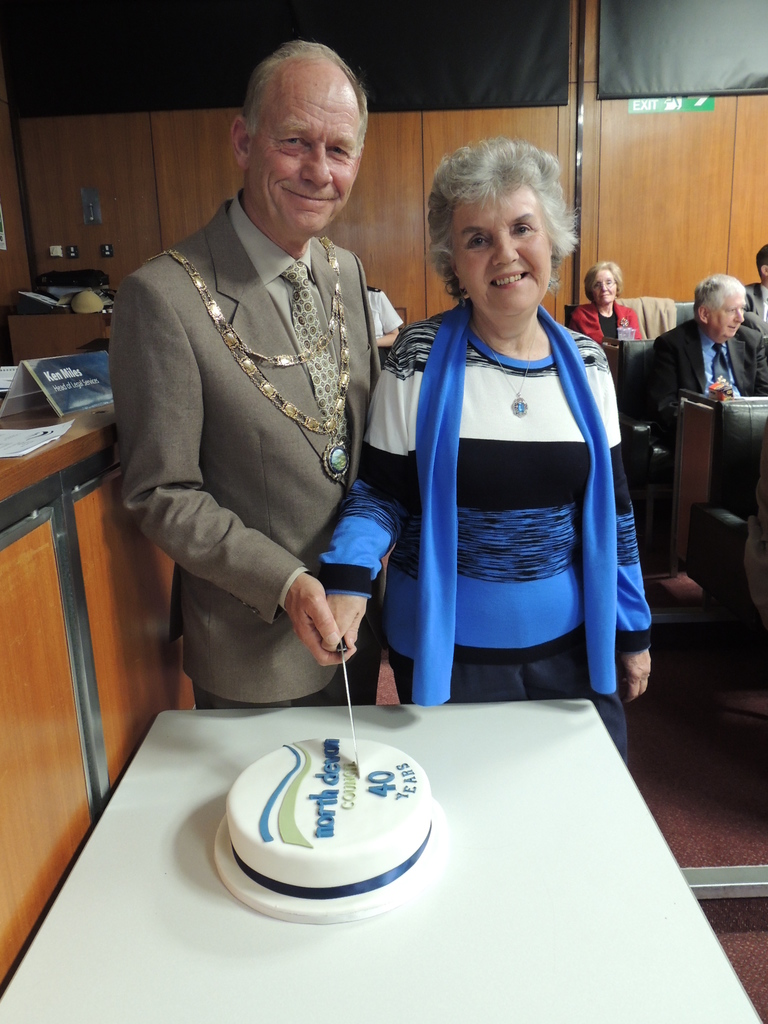cake: (214, 733, 453, 922)
